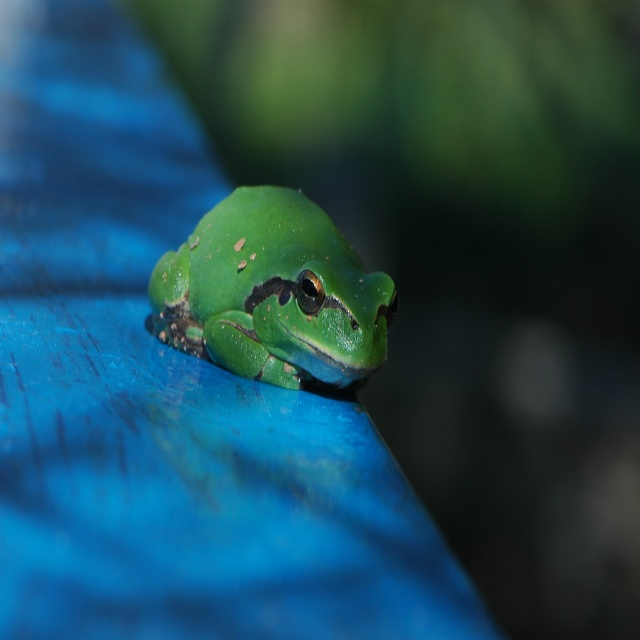Frog: (148, 184, 400, 388)
